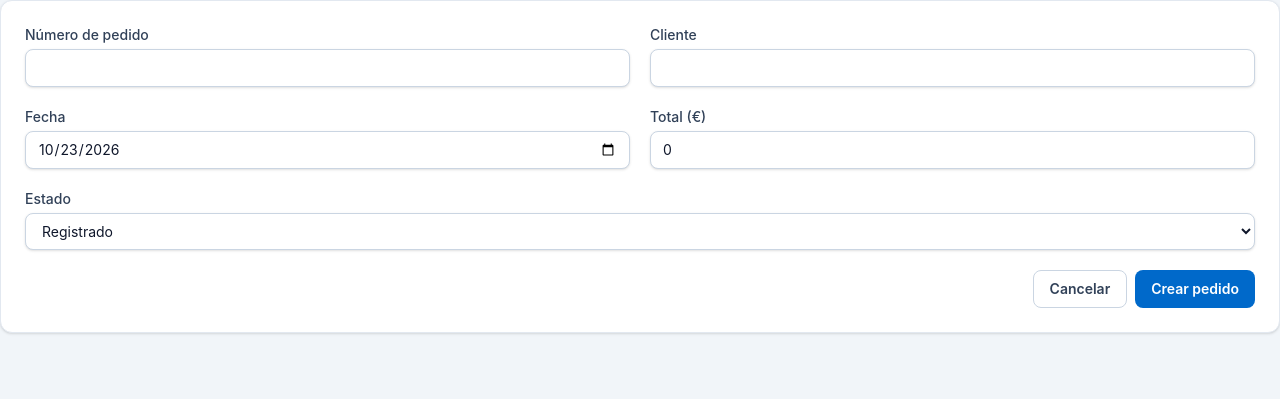
Scenario: PedidoForm › muestra los errores de los campos obligatorios al enviar vacío
The width and height of the screenshot is (1280, 399).
Click the button "Crear pedido" at (1195, 289), box left=1135, top=270, right=1255, bottom=308
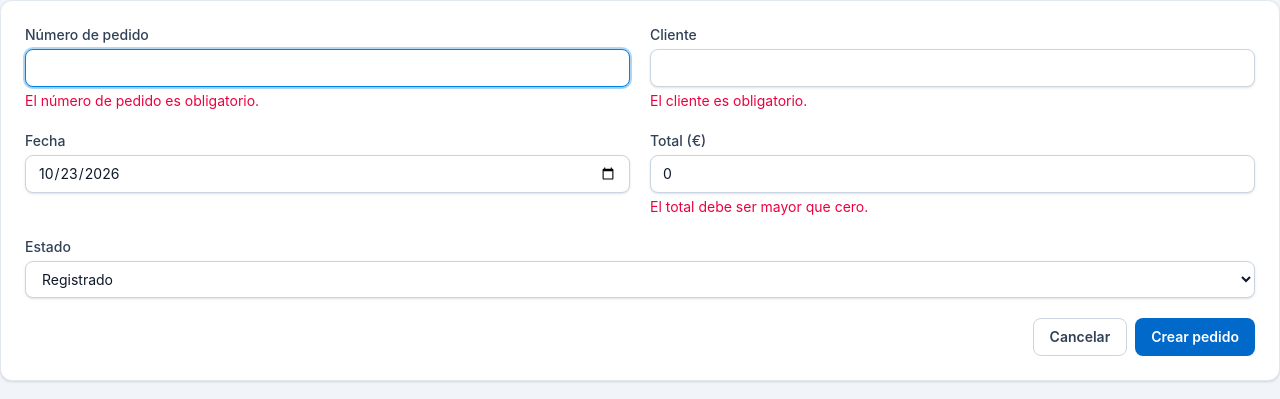
expect the text "El número de pedido es obligatorio." is shown: met, box left=25, top=92, right=259, bottom=109
expect the text "El cliente es obligatorio." is shown: met, box left=650, top=92, right=807, bottom=109
expect the text "El total debe ser mayor que cero." is shown: met, box left=650, top=198, right=868, bottom=215
